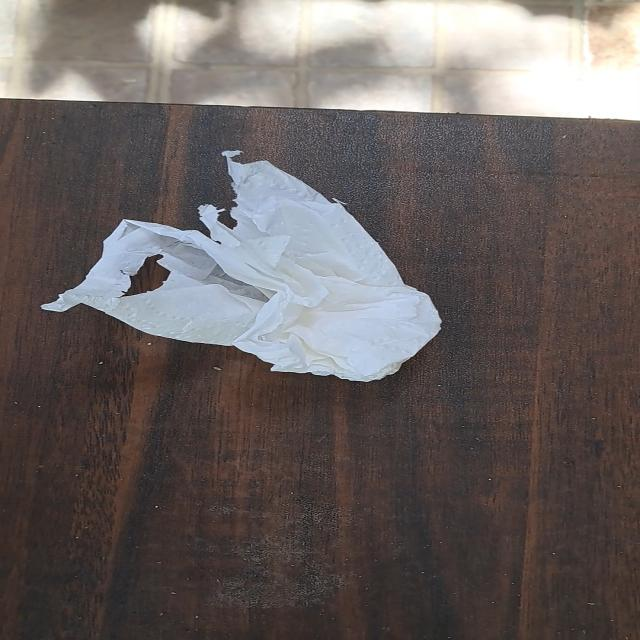Organik: (42, 147, 445, 383)
